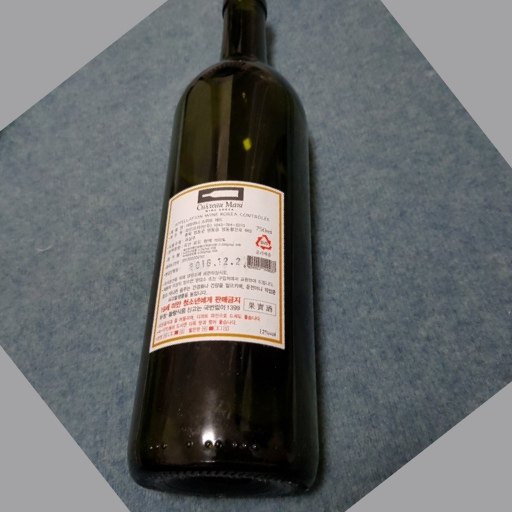Glass_2: (128, 1, 320, 493)
